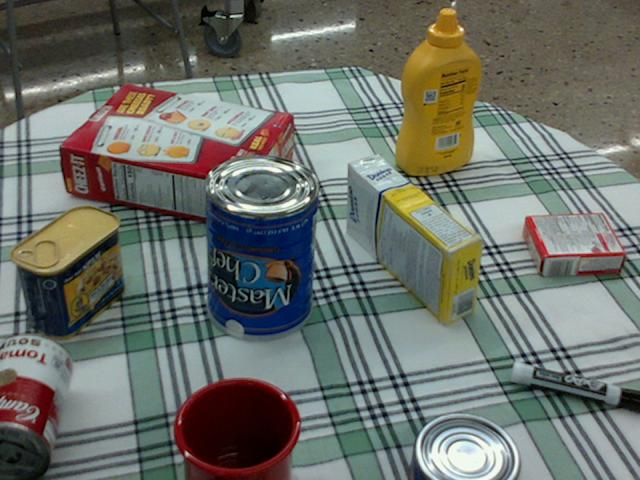cracker_box: (60, 85, 290, 226)
gelatin_box: (521, 213, 623, 276)
large_marker: (511, 361, 639, 411)
master_chef_can: (202, 154, 317, 340)
mug: (167, 377, 296, 479)
mustard_bottle: (394, 9, 480, 173)
potted_meat_can: (12, 205, 123, 338)
sugar_box: (345, 155, 482, 323)
tomato_soup_can: (0, 333, 72, 479)
tuna_fish_can: (408, 415, 520, 479)
